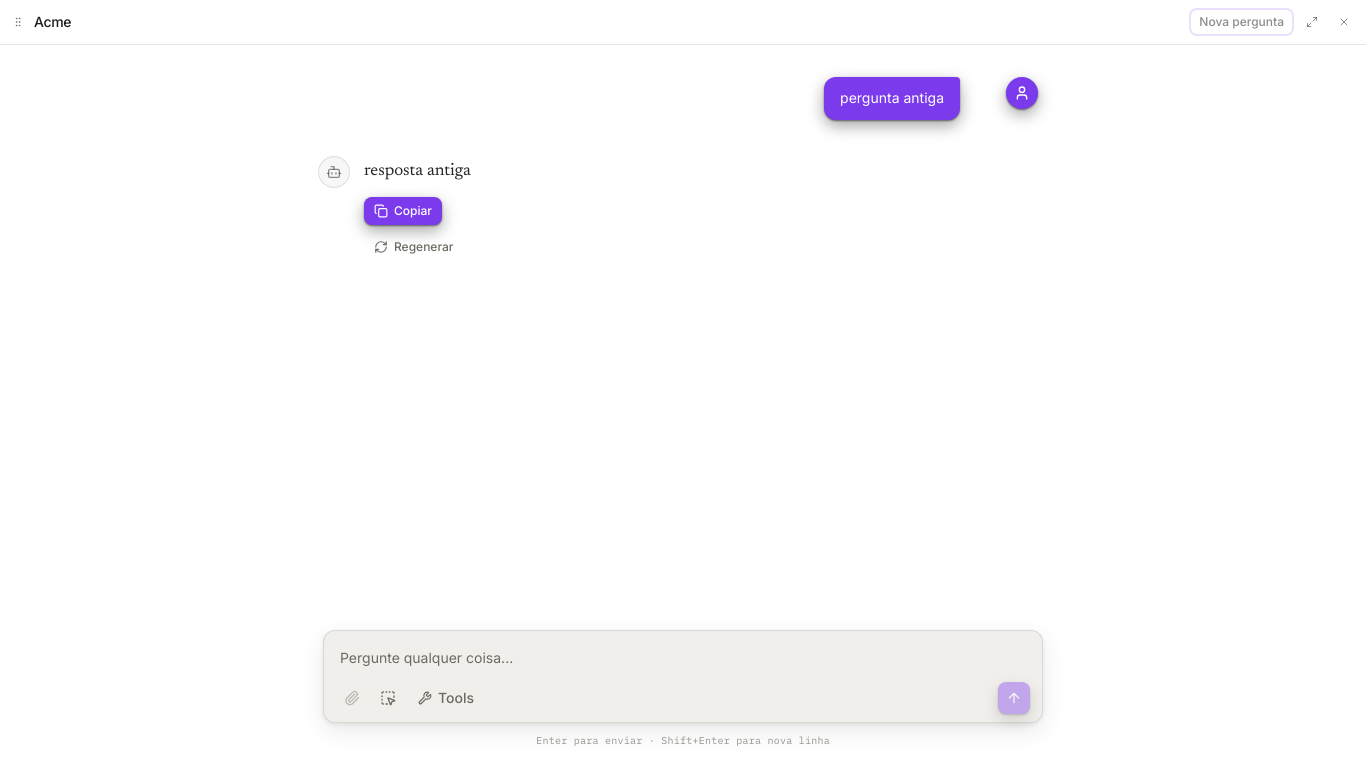
Test case: IslandPanel › T5.2 Nova pergunta esvazia a lista e limpa o id ativo
Expected: the text "pergunta antiga" is shown, [824, 77, 960, 120]
Step 1. Click the button "Nova pergunta" → (1242, 22), box [1191, 10, 1292, 34]
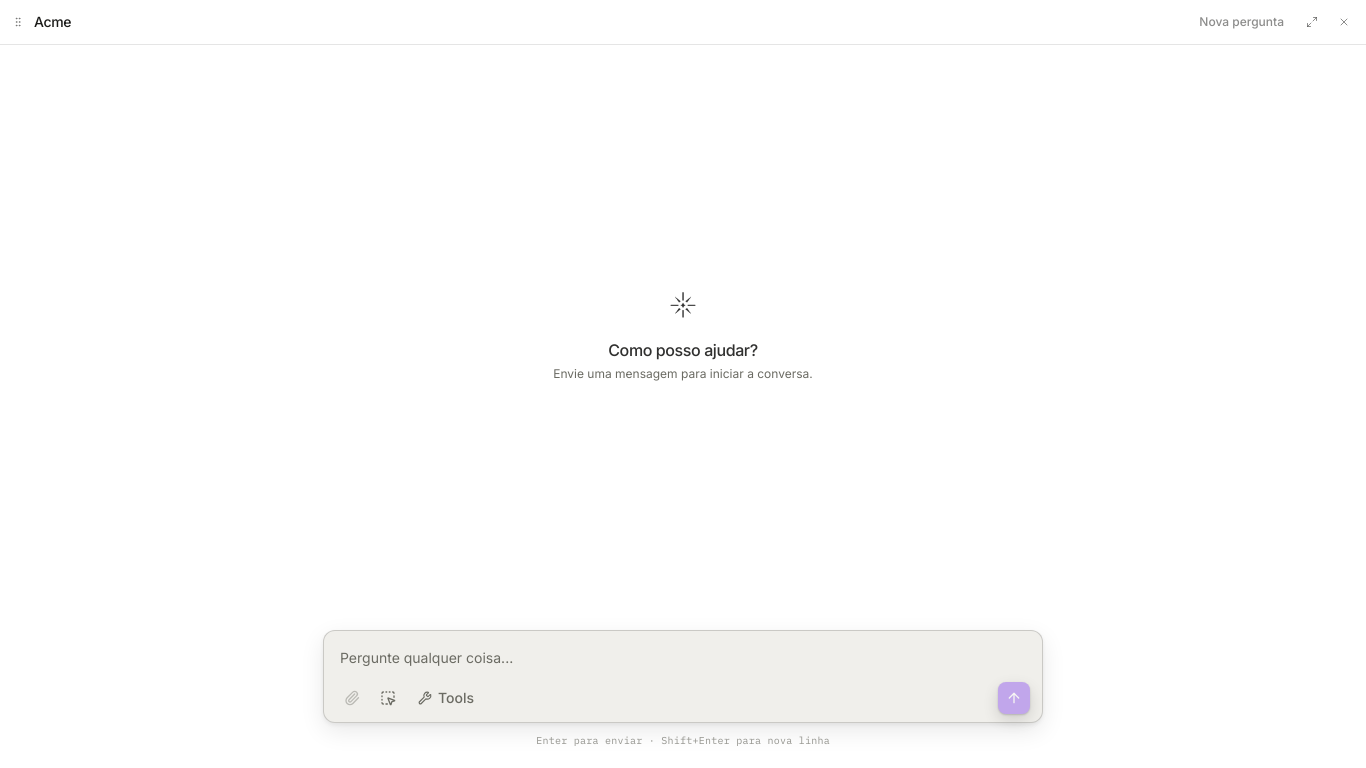
Now the text "pergunta antiga" is gone
